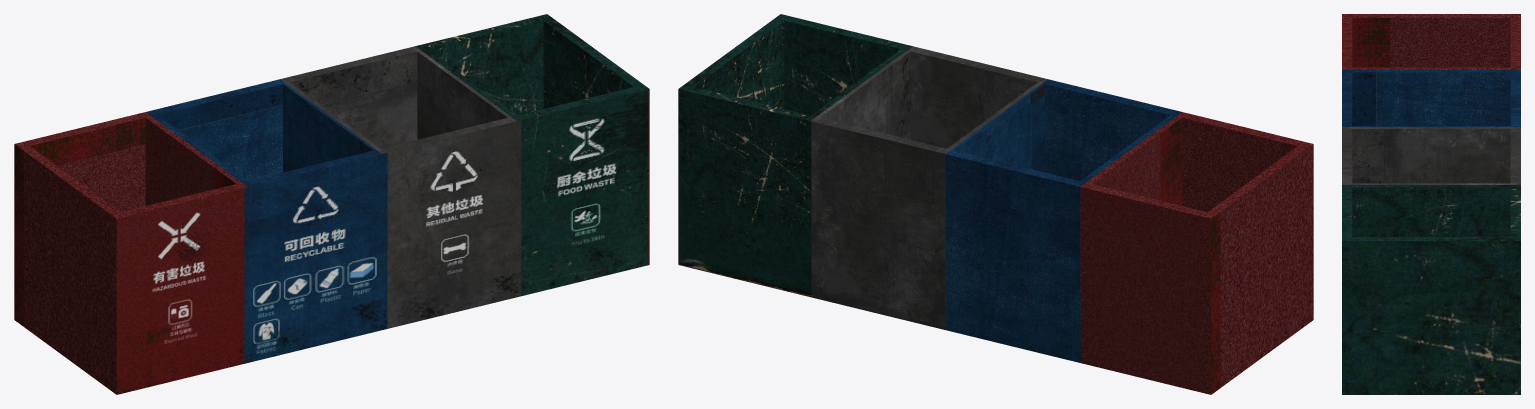
The model's file is recylingbin.fbx.
The picture shows the model from 3 angles, left to right: view 1: azimuth 30°, elevation 25°; view 2: azimuth 150°, elevation 25°; view 3: azimuth 270°, elevation 25°; orthographic projection. The views are drawn at different scales.
Parts seen in each view (by area): view 1: pCube217; view 2: pCube217; view 3: pCube217.
Boxes of the visible parts, x1=… form: pCube217: x1=14, y1=14, x2=649, y2=394; pCube217: x1=678, y1=14, x2=1313, y2=394; pCube217: x1=1342, y1=14, x2=1520, y2=394.
Size of the model in its own units: 300 by 94.64 by 99.67.
1 material, 1 textured.
